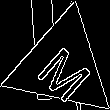M_NE: (29, 32, 95, 99)
